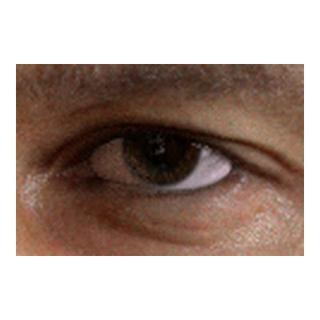pupil: (143, 128, 180, 165)
